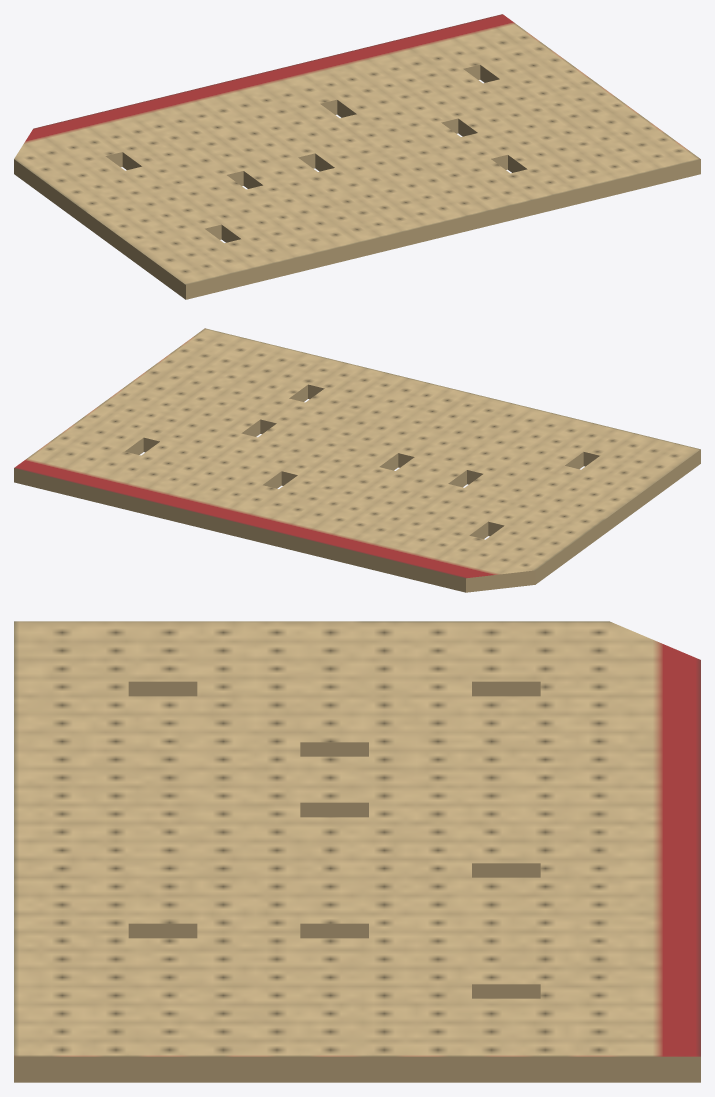
File: SM_LabPart_PunchCard_18x12x1.fbx
The picture shows the model from 3 angles, top to bottom: view 1: azimuth 30°, elevation 25°; view 2: azimuth 150°, elevation 25°; view 3: azimuth 270°, elevation 25°; orthographic projection. The views are drawn at different scales.
Visible parts, largest first — view 1: SM_LabPart_PunchCard_18x12x1.001; view 2: SM_LabPart_PunchCard_18x12x1.001; view 3: SM_LabPart_PunchCard_18x12x1.001.
Boxes of the visible parts, x1,y1,x2,y2 form: SM_LabPart_PunchCard_18x12x1.001: [14, 14, 700, 299]; SM_LabPart_PunchCard_18x12x1.001: [14, 328, 700, 592]; SM_LabPart_PunchCard_18x12x1.001: [14, 621, 700, 1082].
Bounding box in the file's own units: 0.18 × 0.005 × 0.12.
